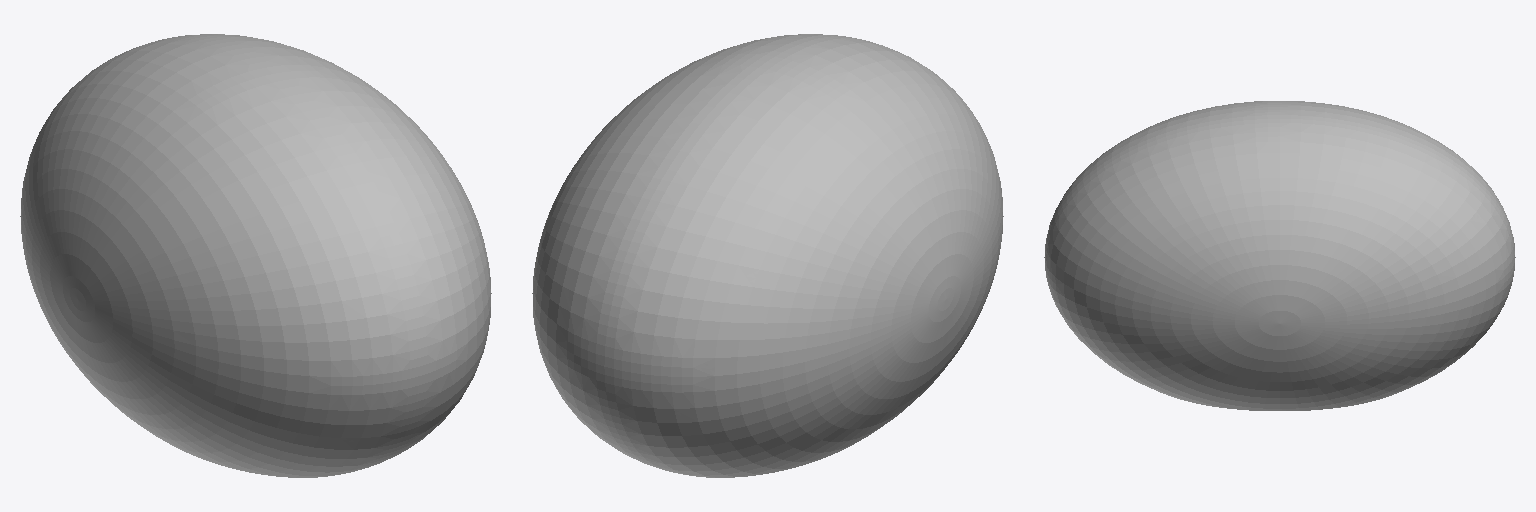
The robot description file, URDF, robot "root":
<robot name="root">
  <link name="link_001">
    <visual>
      <origin xyz="0 0 0" rpy="0 0 0"/>
      <geometry>
        <mesh filename="spheremedium.obj" scale="1.0000E+00 1.5000E+00 1.0000E+00"/>
      </geometry>
      <material name="">
        <color rgba="7.50E-01 7.50E-01 7.50E-01 1"/>
      </material>
    </visual>
    <collision>
      <origin xyz="0 0 0" rpy="0 0 0"/>
      <geometry>
        <mesh filename="spheremedium.obj" scale="1.0000E+00 1.5000E+00 1.0000E+00"/>
      </geometry>
    </collision>
    <inertial>
      <mass value="0.16"/> <!-- 质量：0.1kg -->
    </inertial>
  </link>
</robot>

--- Facts derived from the render (not from the file) ---
The picture shows the robot from 3 angles, left to right: view 1: azimuth 30°, elevation 25°; view 2: azimuth 150°, elevation 25°; view 3: azimuth 270°, elevation 25°; orthographic projection.
Robot: root — 1 links, 0 joints (none); root link link_001; default pose: every joint at zero.
Links seen in each view (by area): view 1: link_001; view 2: link_001; view 3: link_001.
Link boxes in pixels (<box>): link_001: <box>20,34,491,477</box>; link_001: <box>532,34,1003,477</box>; link_001: <box>1044,101,1515,410</box>.
Size in the robot's own frame: 0.0802 by 0.1202 by 0.0725 metres.
Meshes: 1 distinct files referenced, 1 mesh visuals loaded (1 OBJ).
